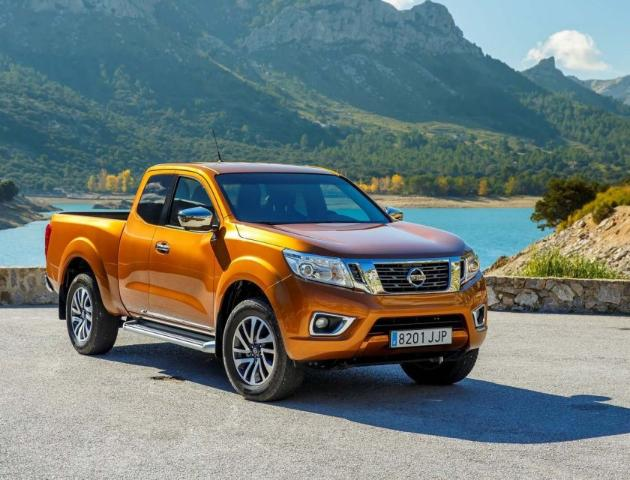pickup-truck: (41, 161, 486, 404)
